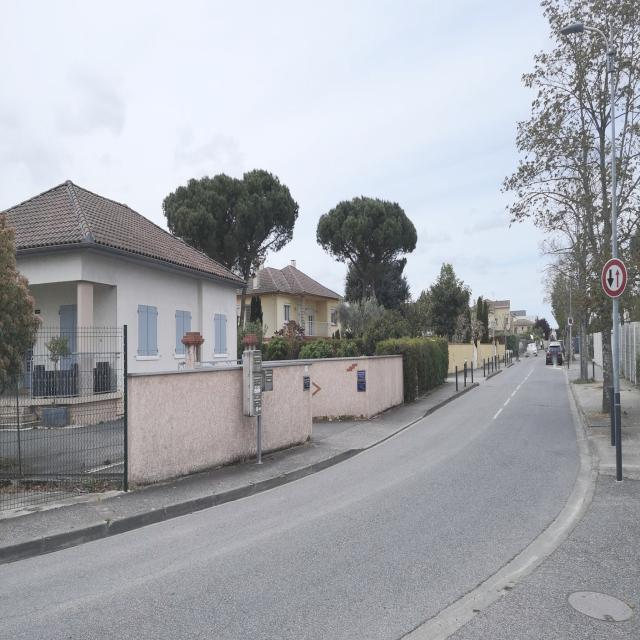car: (546, 341, 564, 365)
